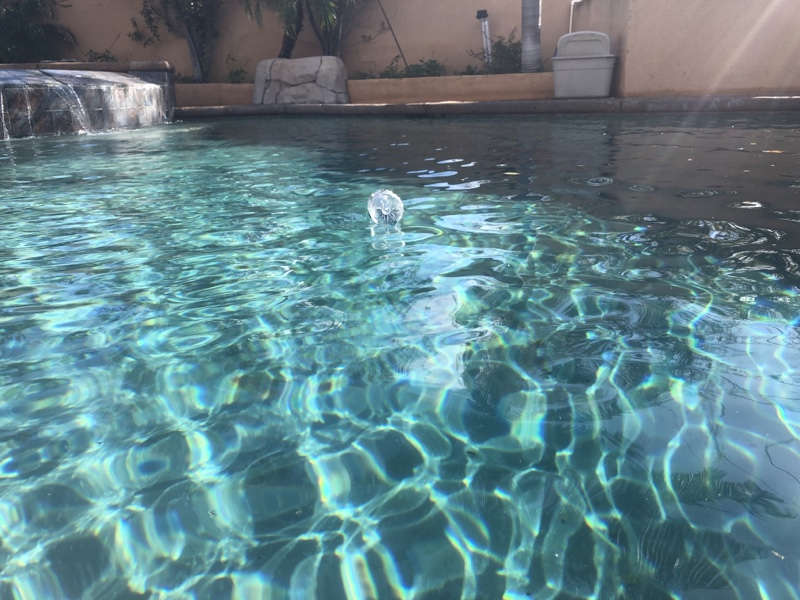Plastic Bottle: (364, 187, 407, 231)
